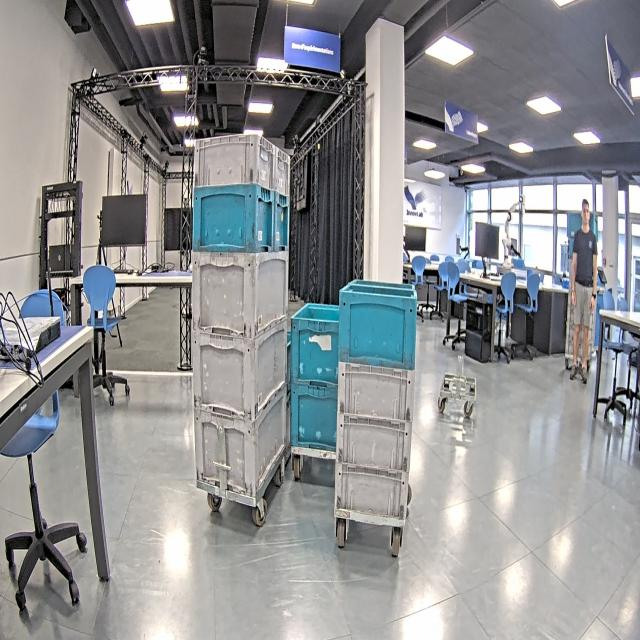Box4G: (195, 387, 288, 495), (191, 326, 287, 406), (190, 252, 288, 330)
Box8G: (336, 414, 408, 478), (339, 366, 413, 424), (337, 464, 407, 522), (195, 140, 273, 188), (272, 148, 293, 192)
BoxB4: (292, 302, 341, 383), (291, 386, 340, 450)
BoxB8: (339, 284, 416, 364), (193, 188, 273, 254), (272, 195, 291, 251)
